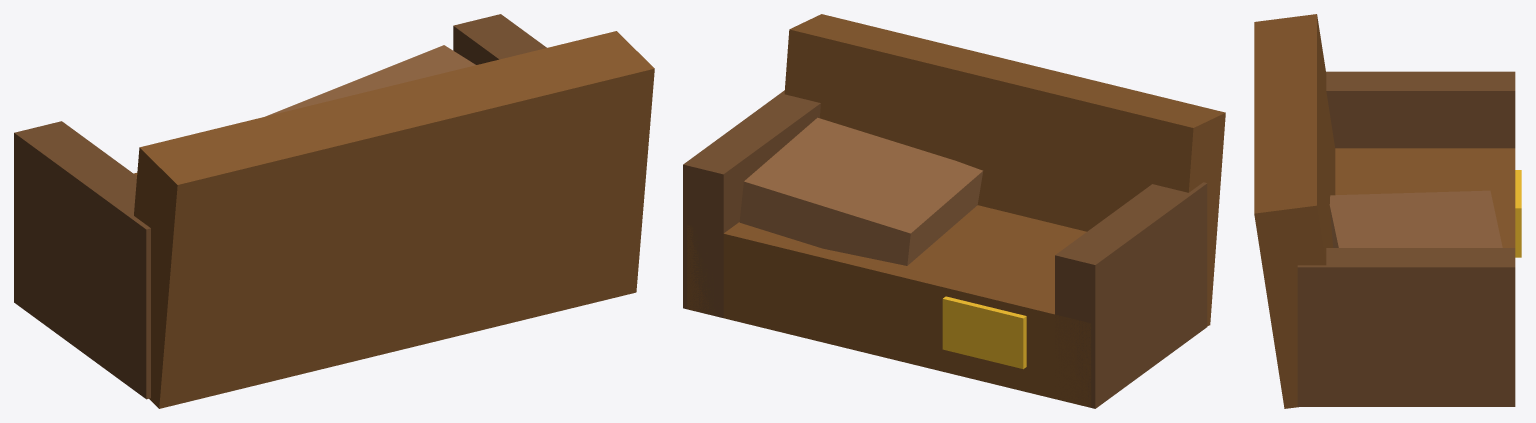
File: sofa_velho.glb
3 views of the same model, side by side, from view 1: azimuth 30°, elevation 25°; view 2: azimuth 150°, elevation 25°; view 3: azimuth 270°, elevation 25° (orthographic). The views are drawn at different scales.
Parts seen in each view (by area): view 1: corpo; view 2: corpo; view 3: corpo.
Boxes of the visible parts, x1=… form: corpo: x1=14, y1=14, x2=654, y2=408; corpo: x1=683, y1=14, x2=1225, y2=408; corpo: x1=1254, y1=14, x2=1521, y2=408.
Size of the model in its own units: 0.51 by 0.2474 by 0.2951.
